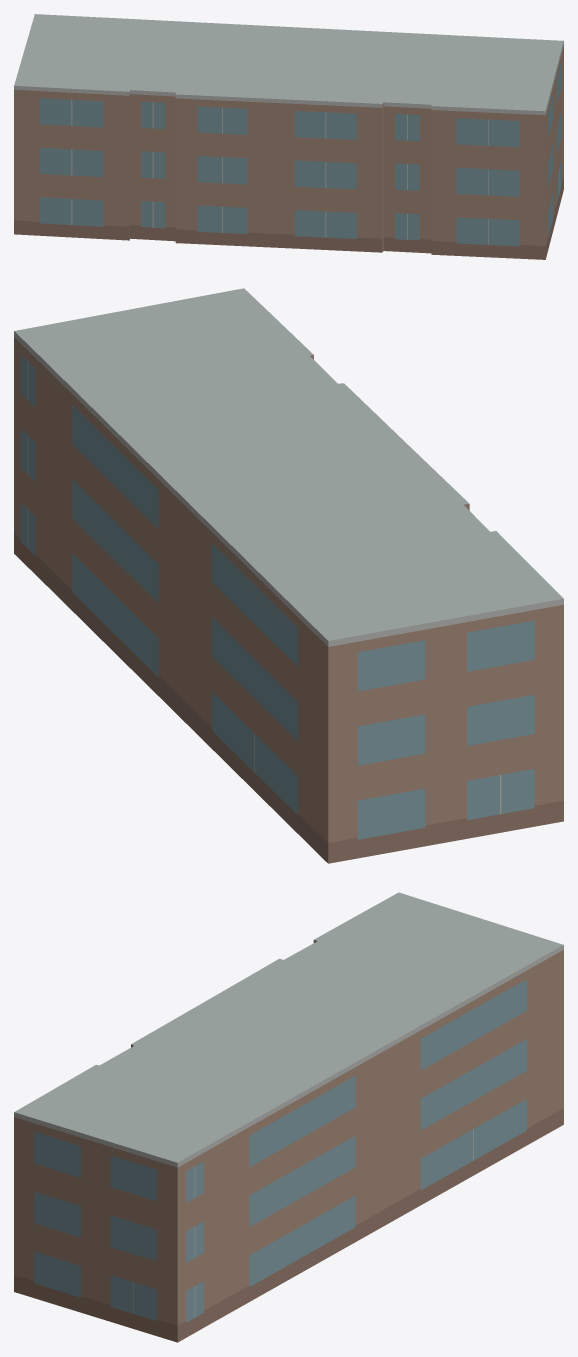
The model's file is survey-upis-32655483.glb.
The picture shows the model from 3 angles, top to bottom: view 1: azimuth 30°, elevation 25°; view 2: azimuth 150°, elevation 25°; view 3: azimuth 270°, elevation 25°; orthographic projection. The views are drawn at different scales.
Visible parts, largest first — view 1: survey-upis-32655483.tmp; view 2: survey-upis-32655483.tmp; view 3: survey-upis-32655483.tmp.
Boxes of the visible parts, x1,y1,x2,y2 form: survey-upis-32655483.tmp: (14,14,563,259); survey-upis-32655483.tmp: (14,288,563,863); survey-upis-32655483.tmp: (14,892,563,1342).
Bounding box in the file's own units: 29.54 × 9.15 × 25.38.
